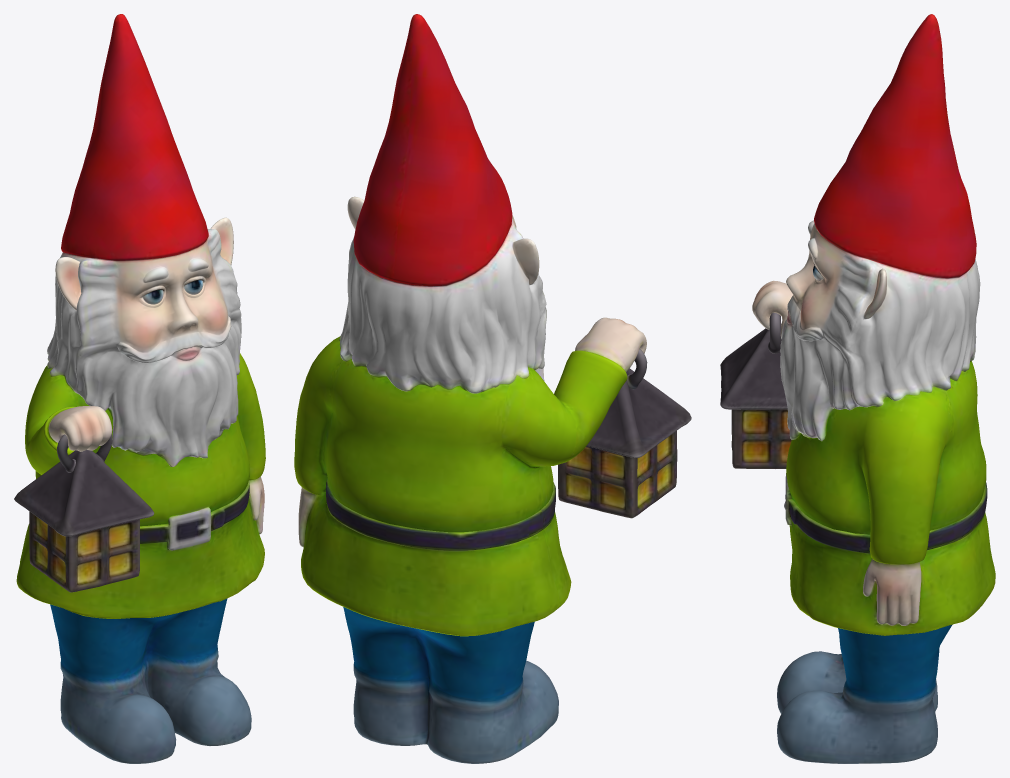
3 views of the same model, side by side, from view 1: azimuth 30°, elevation 25°; view 2: azimuth 150°, elevation 25°; view 3: azimuth 270°, elevation 25° (orthographic). The views are drawn at different scales.
Visible parts, largest first — view 1: garden_gnome; view 2: garden_gnome; view 3: garden_gnome.
Boxes of the visible parts, box(x1,y1,x2,y2) form: garden_gnome: box(14, 14, 265, 763); garden_gnome: box(294, 14, 691, 763); garden_gnome: box(720, 14, 995, 763).
Size of the model in its own units: 0.2579 by 0.5991 by 0.2097.
1 material, 1 textured.
